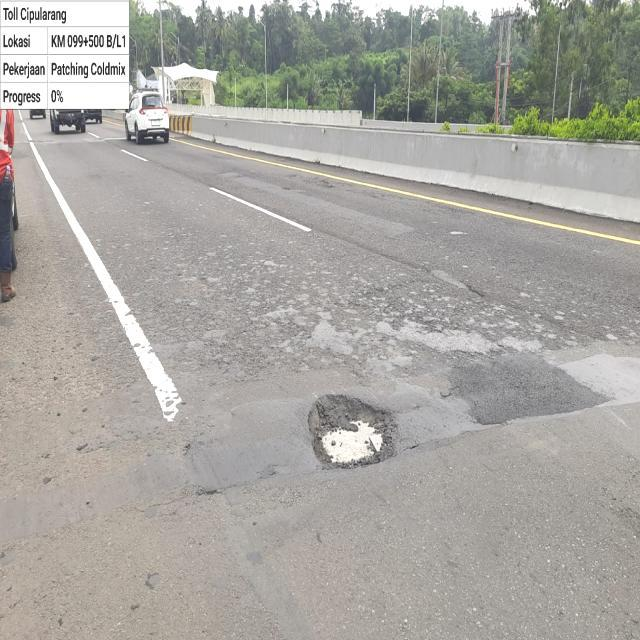Buraco: (304, 392, 402, 472)
